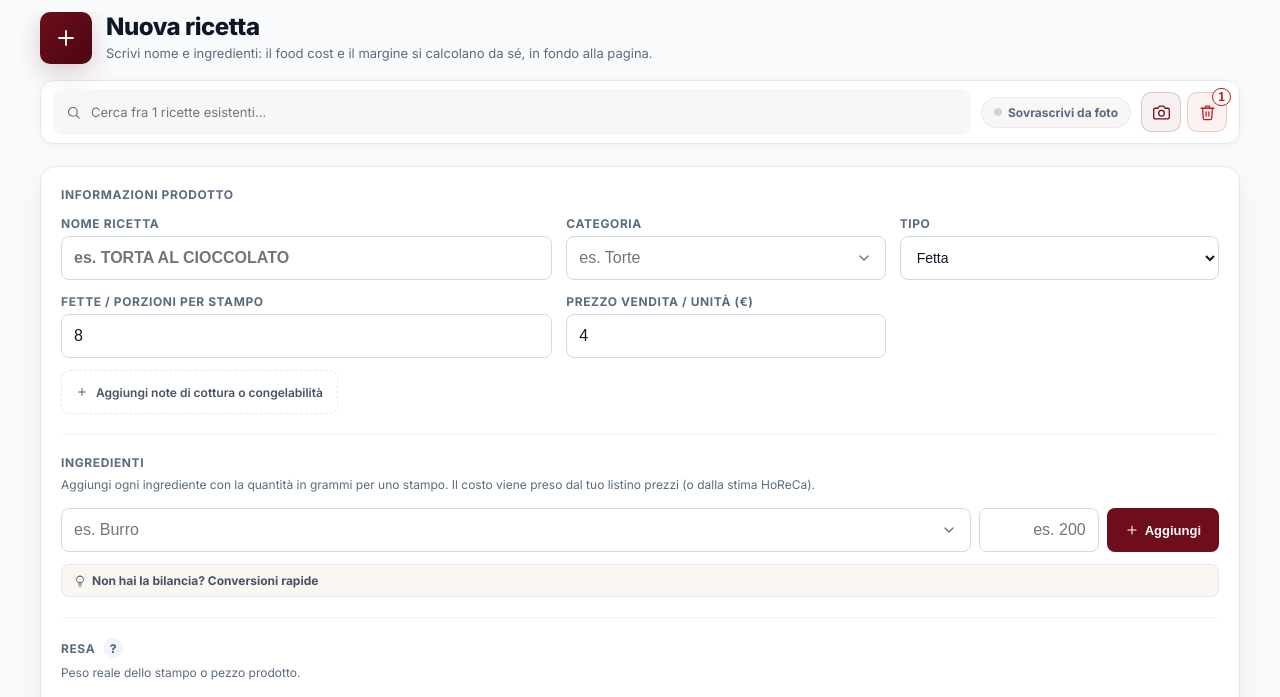
Test: Nuovo gusto - i nomi degli ingredienti mentre si aggiungono › scegliendo dall'elenco, il campo e la riga si leggono con la maiuscola
Type "burr" into the dropdown named "nome ingrediente da aggiungere" at (516, 530), box [61, 508, 971, 552]
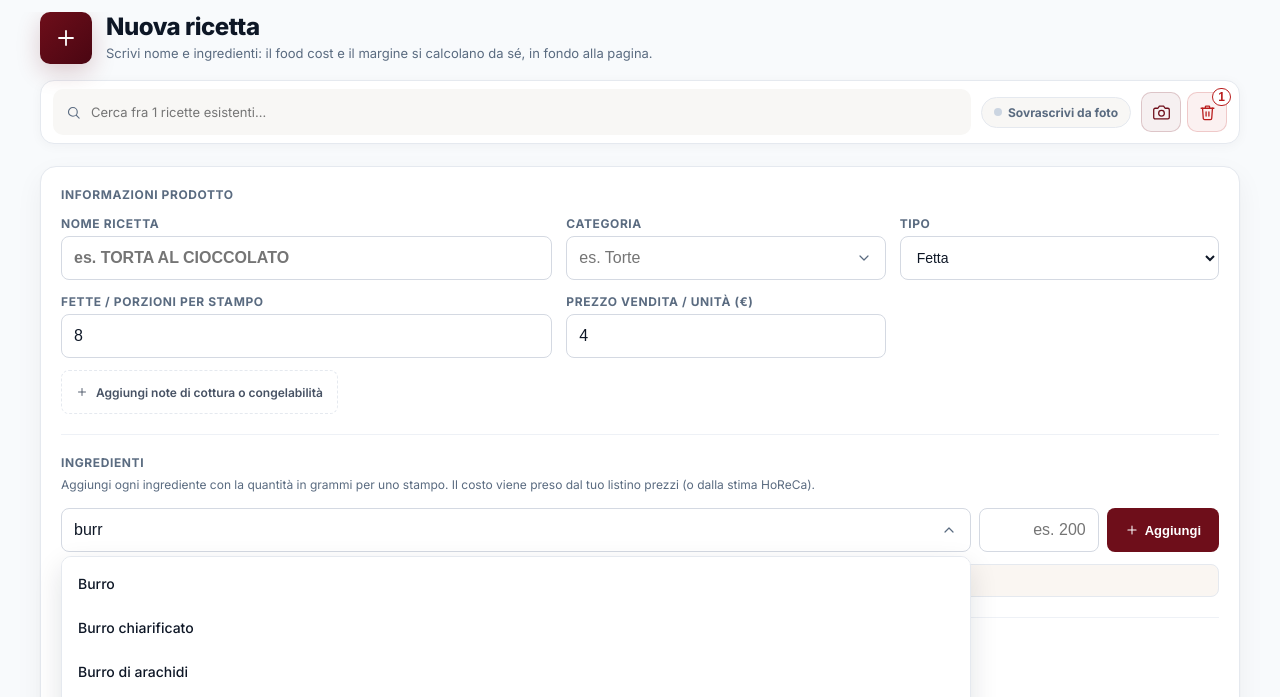
Press the mouse on the option "Burro" at (96, 583), box [78, 574, 115, 592]
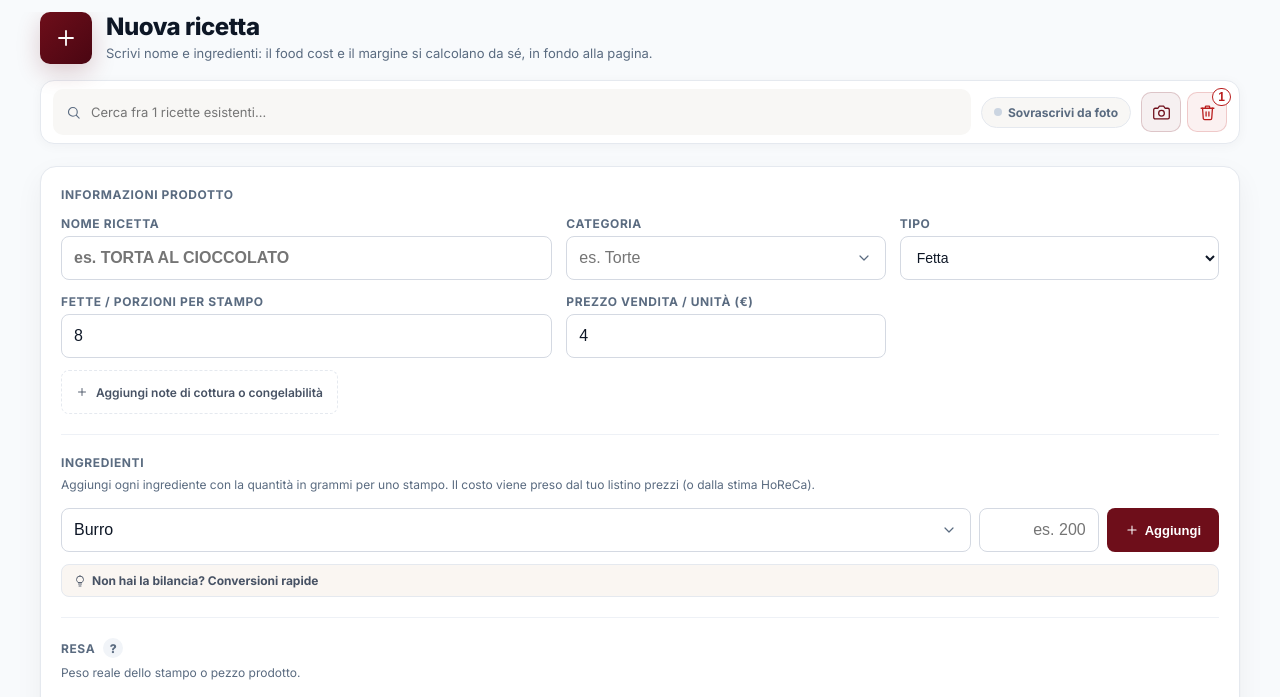
Now the dropdown named "nome ingrediente da aggiungere" holds "Burro", box [61, 508, 971, 552]
Type "250" into the field named "grammi di ingrediente da aggiungere" at (1039, 530), box [979, 508, 1099, 552]
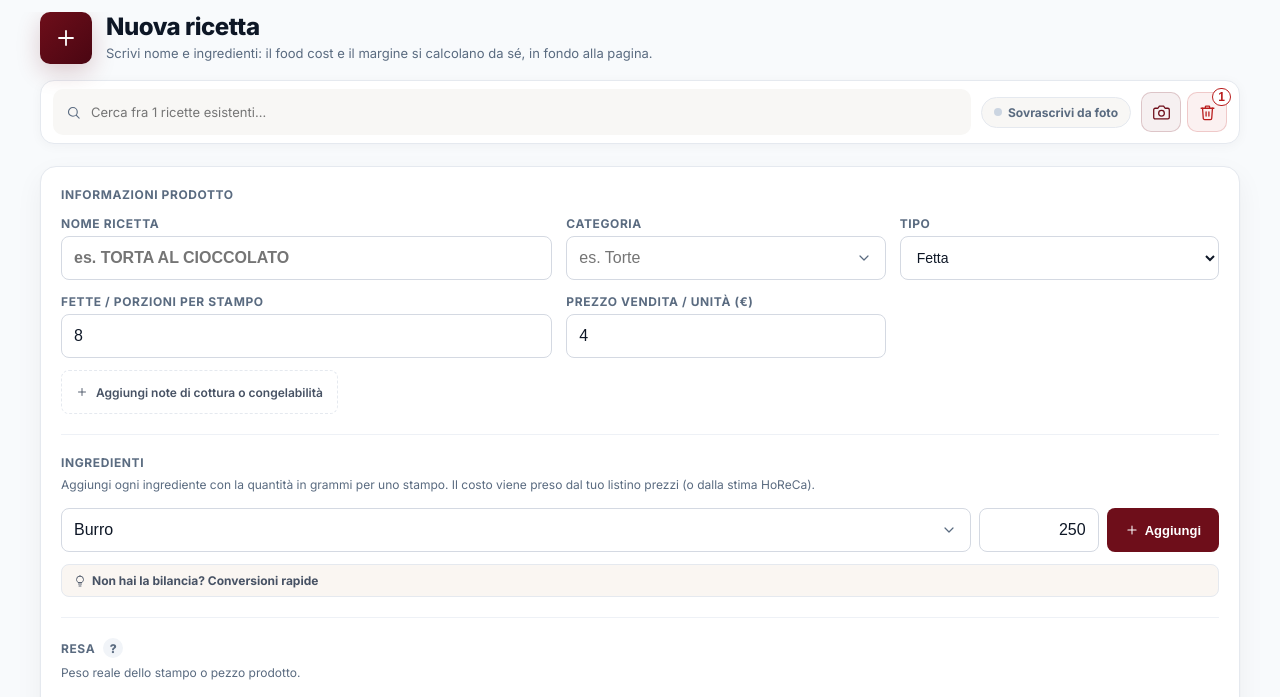
Click the button with aria-label "Aggiungi ingrediente alla ricetta" at (1163, 530), box [1107, 508, 1219, 552]
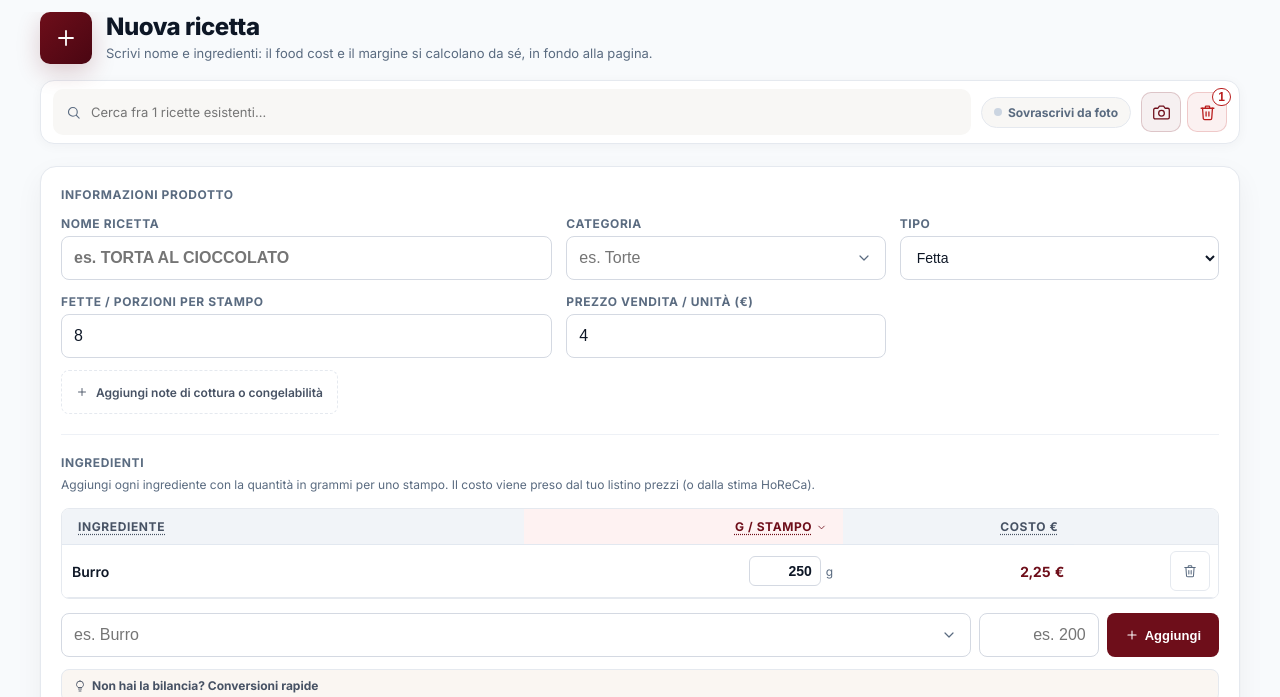
Now the text "Burro" is shown, box [72, 562, 109, 580]
